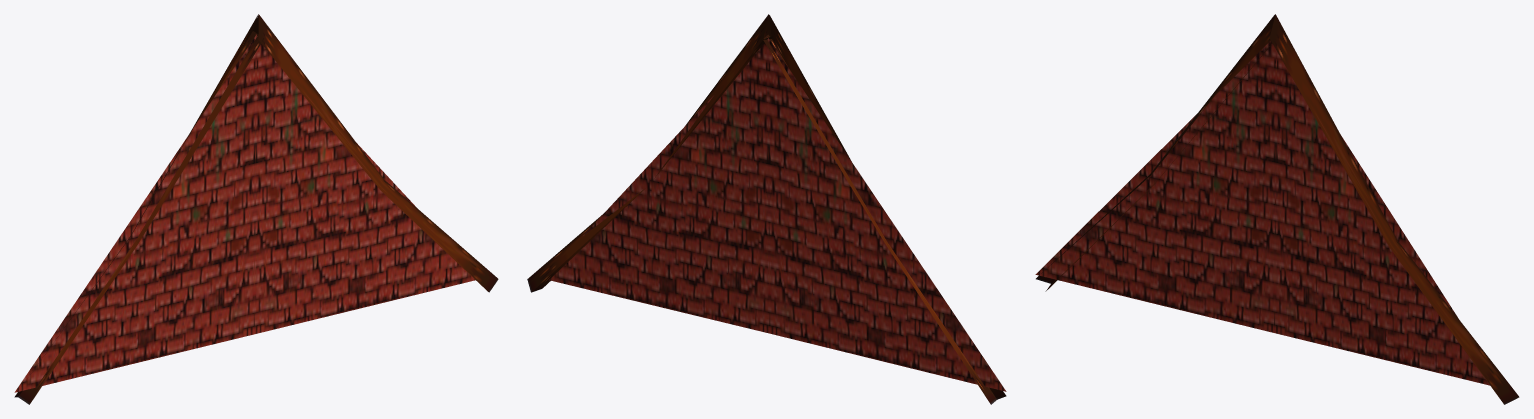
File: Giebel [Copy 3]_2783.glb
The picture shows the model from 3 angles, left to right: view 1: azimuth 30°, elevation 25°; view 2: azimuth 150°, elevation 25°; view 3: azimuth 330°, elevation 25°; orthographic projection.
Parts seen in each view (by area): view 1: pPlaneShape1, pPlaneShape2, pCylinderShape2, pCylinderShape3; view 2: pPlaneShape1, pPlaneShape2, pCylinderShape2, pCylinderShape3; view 3: pPlaneShape1, pPlaneShape2, pCylinderShape2, pCylinderShape3.
Boxes of the visible parts, x1,y1,x2,y2 form: pPlaneShape1: (14,34,256,392); pPlaneShape2: (254,34,475,334); pCylinderShape2: (252,14,498,292); pCylinderShape3: (14,15,263,404); pPlaneShape1: (767,37,1006,391); pPlaneShape2: (549,37,769,333); pCylinderShape2: (527,14,773,292); pCylinderShape3: (763,15,1006,404); pPlaneShape1: (1035,40,1276,332); pPlaneShape2: (1274,50,1489,385); pCylinderShape2: (1269,14,1519,404); pCylinderShape3: (1036,14,1275,291).
Bounding box in the file's own units: 1.11 × 0.7302 × 0.0468.
4 materials, 4 textured.
